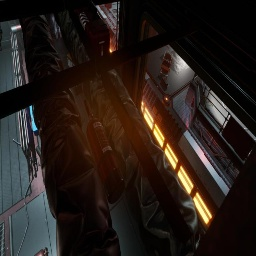FireAlarm ,: (119, 75, 120, 77)
FireExtinguisher ]: (84, 99, 125, 204)
FirstAidBox ,: (75, 0, 110, 60), (89, 110, 94, 119)
NitrogenTank ,: (33, 247, 48, 256), (11, 24, 22, 34)
